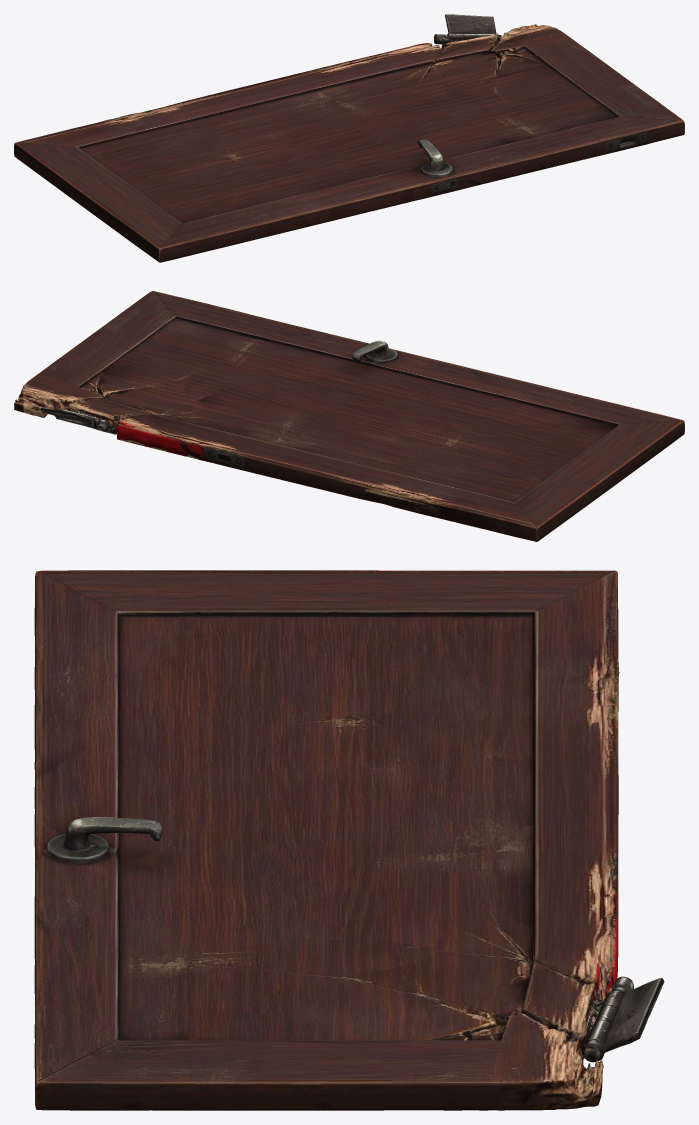
File: broken_door.glb
3 renders of one model, top to bottom at view 1: azimuth 30°, elevation 25°; view 2: azimuth 150°, elevation 25°; view 3: azimuth 270°, elevation 25°, orthographic. The views are drawn at different scales.
Parts seen in each view (by area): view 1: mesh_node; view 2: mesh_node; view 3: mesh_node.
Boxes of the visible parts, left/top/right/bottom form: mesh_node: left=14, top=14, right=684, bottom=262; mesh_node: left=14, top=291, right=684, bottom=541; mesh_node: left=34, top=570, right=664, bottom=1110.
Size of the model in its own units: 1.9 by 0.1068 by 0.9858.
1 material, 1 textured.
